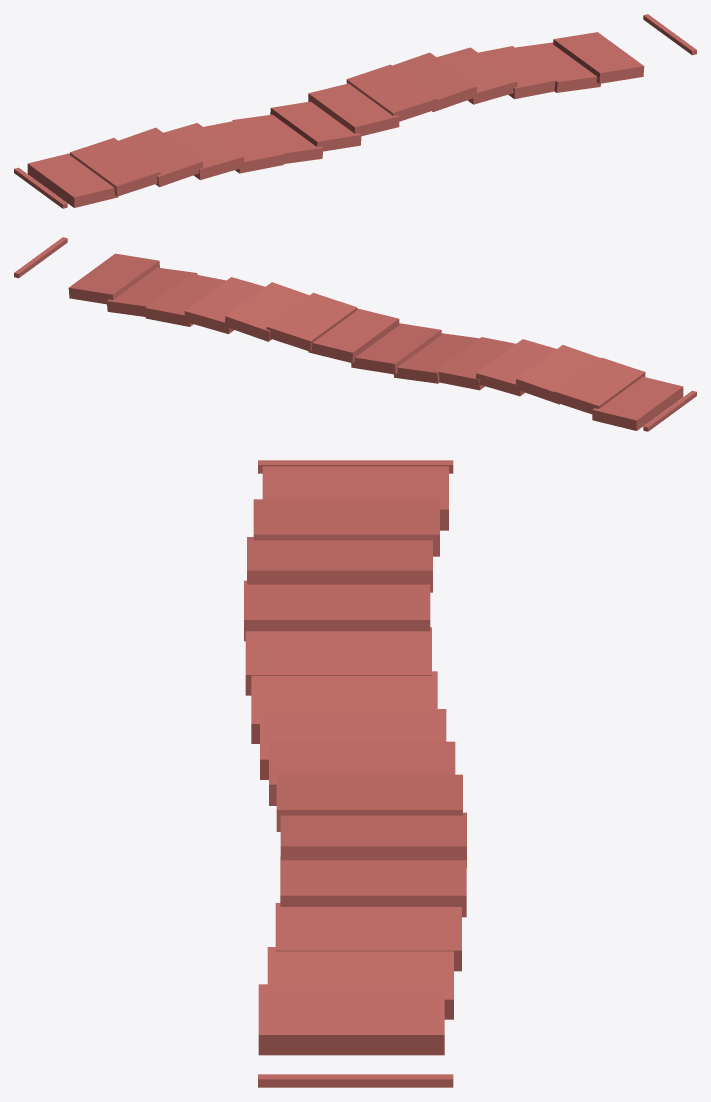
File: Red_scarf.glb
The picture shows the model from 3 angles, top to bottom: view 1: azimuth 30°, elevation 25°; view 2: azimuth 150°, elevation 25°; view 3: azimuth 270°, elevation 25°; orthographic projection. The views are drawn at different scales.
Visible parts, largest first — view 1: Red_scarf; view 2: Red_scarf; view 3: Red_scarf.
Boxes of the visible parts, x1,y1,x2,y2 form: Red_scarf: (14, 14, 696, 208); Red_scarf: (14, 237, 696, 431); Red_scarf: (244, 460, 466, 1087).
Size of the model in its own units: 1.57 by 0.0654 by 0.2395.
